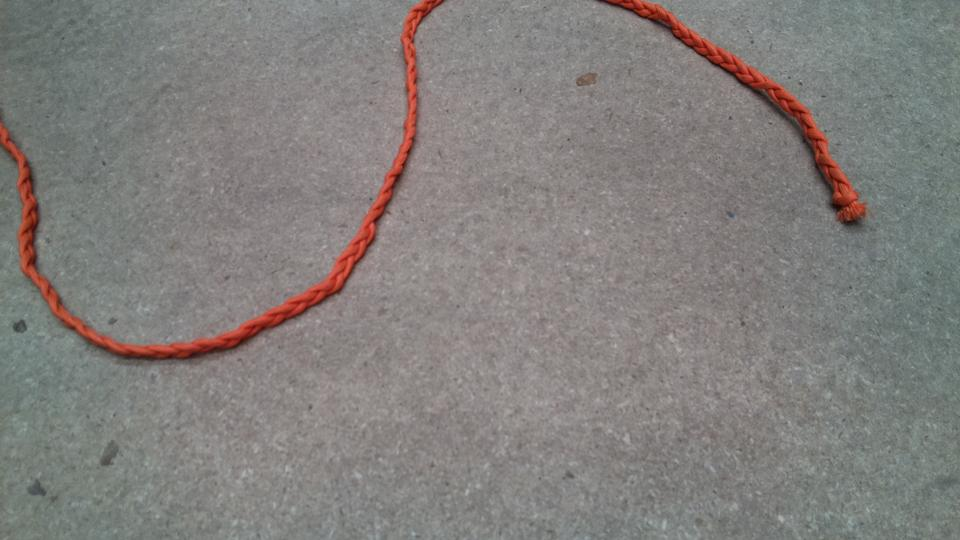rope: (1, 1, 873, 366)
